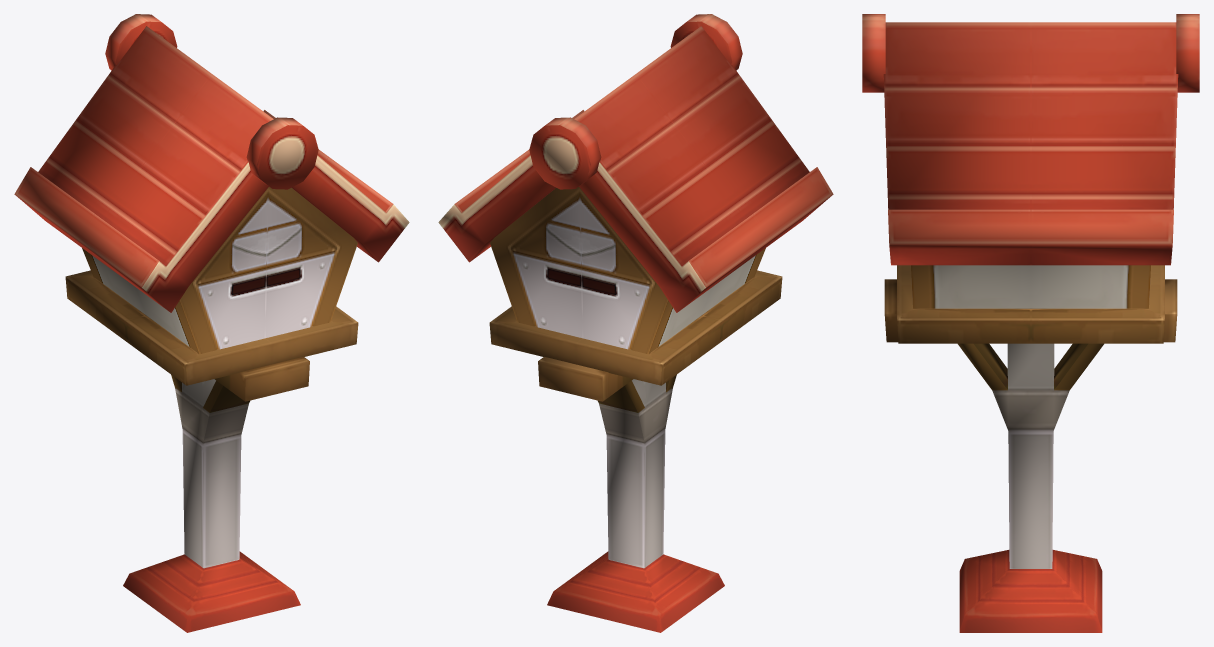
File: youxiangtong.FBX
3 renders of one model, left to right at view 1: azimuth 30°, elevation 25°; view 2: azimuth 150°, elevation 25°; view 3: azimuth 270°, elevation 25°, orthographic. The views are drawn at different scales.
Visible parts, largest first — view 1: Object001; view 2: Object001; view 3: Object001.
Part boxes in pixels (x1,y1,x2,y2): Object001: (14, 14, 409, 632); Object001: (438, 14, 833, 632); Object001: (862, 14, 1199, 632).
Bounding box in the file's own units: 13.11 × 24.61 × 12.88.
